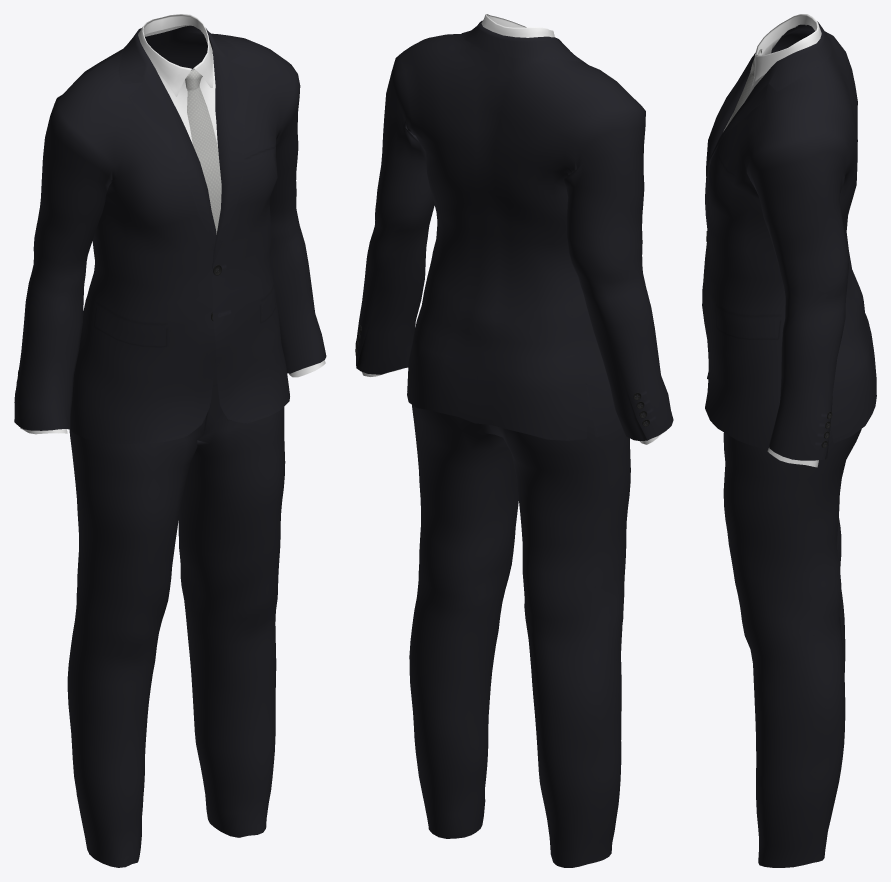
3 views of the same model, side by side, from view 1: azimuth 30°, elevation 25°; view 2: azimuth 150°, elevation 25°; view 3: azimuth 270°, elevation 25° (orthographic). The views are drawn at different scales.
Visible parts, largest first — view 1: m_suit_01Mesh; view 2: m_suit_01Mesh; view 3: m_suit_01Mesh.
Part boxes in pixels (x1=…): m_suit_01Mesh: x1=14, y1=14, x2=326, y2=867; m_suit_01Mesh: x1=355, y1=14, x2=673, y2=867; m_suit_01Mesh: x1=702, y1=14, x2=876, y2=867.
Size of the model in its own units: 0.5387 by 1.4 by 0.2739.
1 material, 1 textured.
